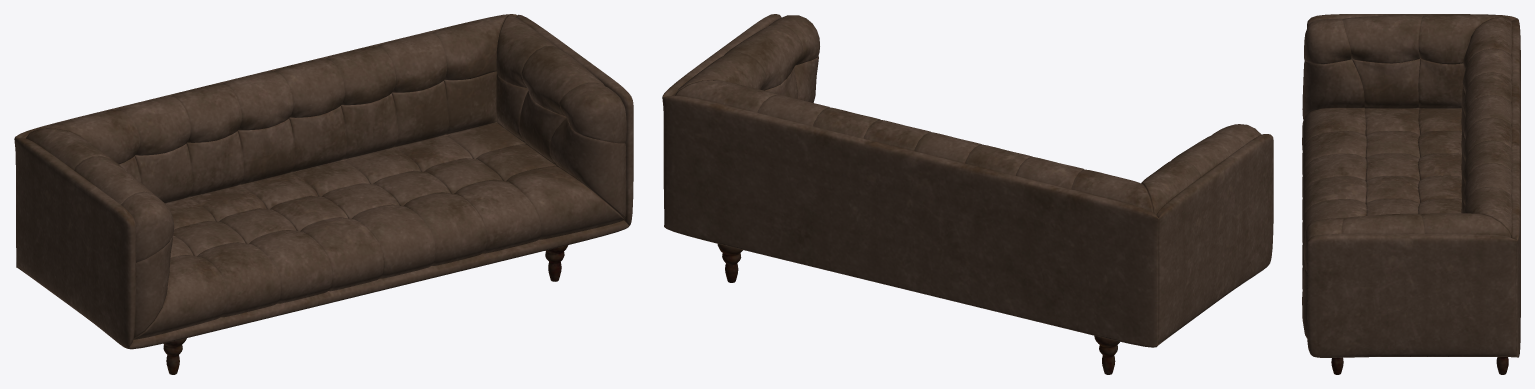
Rendered from sofa-free.glb.
3 renders of one model, left to right at view 1: azimuth 30°, elevation 25°; view 2: azimuth 150°, elevation 25°; view 3: azimuth 270°, elevation 25°, orthographic. The views are drawn at different scales.
Visible parts, largest first — view 1: Sofa; view 2: Sofa; view 3: Sofa.
Boxes of the visible parts, <box> form: Sofa: <box>14,14,633,374</box>; Sofa: <box>662,14,1273,374</box>; Sofa: <box>1302,14,1520,374</box>.
Size of the model in its own units: 2.8 by 1.01 by 1.15.
Materials: 1 (1 with a texture image).
